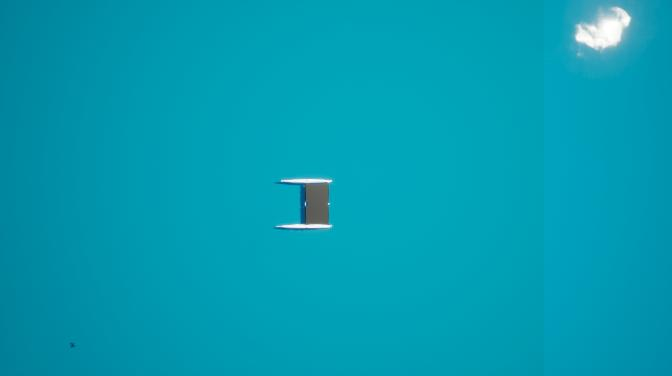boat: (276, 176, 337, 232)
drone: (67, 338, 79, 355)
land_base: (306, 184, 328, 223)
light_reflex: (558, 2, 640, 67)
